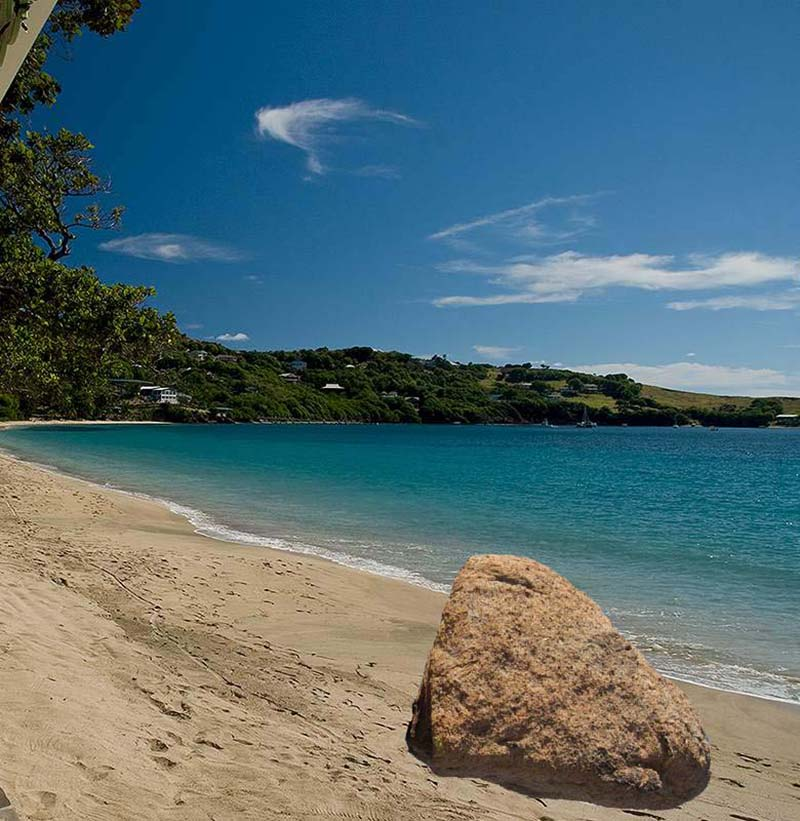Rocks: (401, 549, 721, 814)
